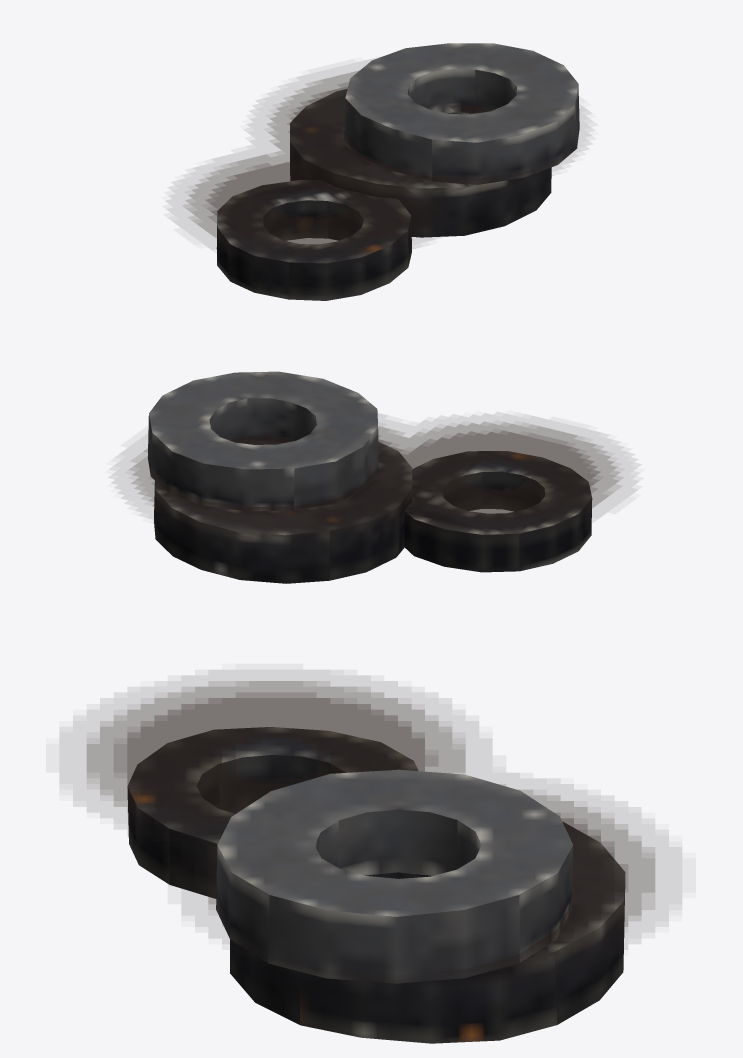
The picture shows the model from 3 angles, top to bottom: view 1: azimuth 30°, elevation 25°; view 2: azimuth 150°, elevation 25°; view 3: azimuth 270°, elevation 25°; orthographic projection. The views are drawn at different scales.
Parts seen in each view (by area): view 1: Tyre, GroundShade; view 2: Tyre, GroundShade; view 3: Tyre, GroundShade.
Part boxes in pixels (x1,y1,x2,y2): Tyre: (216, 43, 579, 300); GroundShade: (166, 59, 590, 265); Tyre: (148, 371, 592, 583); GroundShade: (112, 413, 638, 546); Tyre: (127, 727, 625, 1043); GroundShade: (60, 670, 681, 983).
Size of the model in its own units: 7.55 by 1.43 by 6.45.
2 materials, 2 textured.
